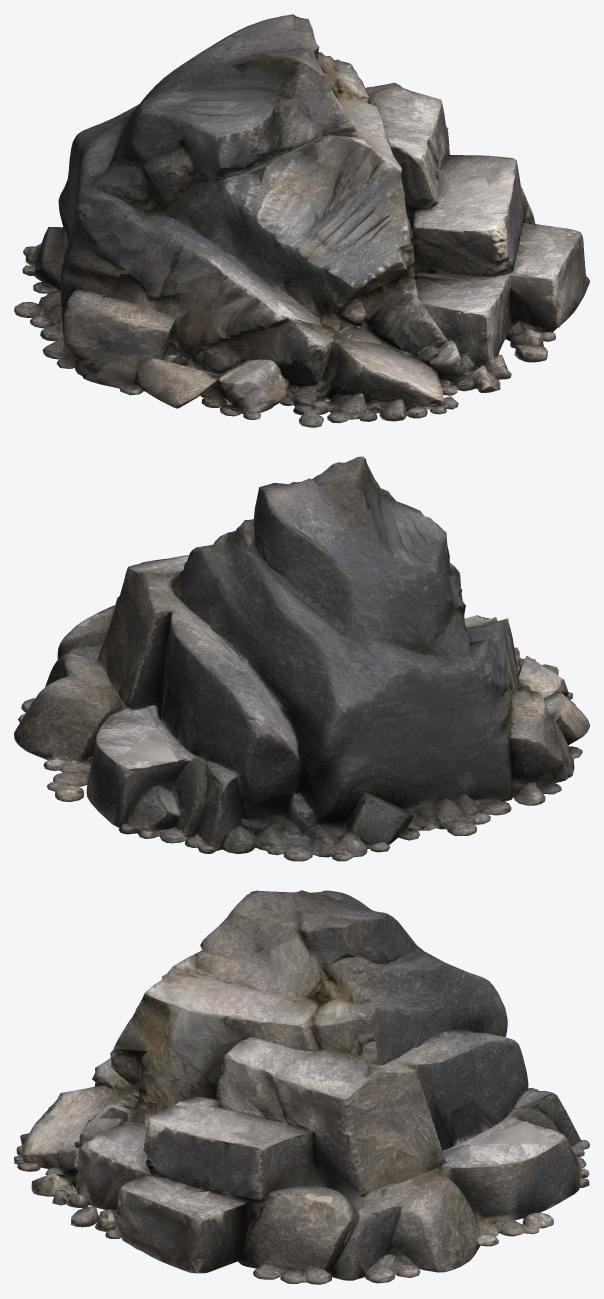
The picture shows the model from 3 angles, top to bottom: view 1: azimuth 30°, elevation 25°; view 2: azimuth 150°, elevation 25°; view 3: azimuth 270°, elevation 25°; orthographic projection. The views are drawn at different scales.
Parts seen in each view (by area): view 1: node_0; view 2: node_0; view 3: node_0.
Part boxes in pixels (left/top/right/bottom): node_0: left=14, top=14, right=589, bottom=427; node_0: left=14, top=456, right=589, bottom=861; node_0: left=14, top=890, right=589, bottom=1284.
Size of the model in its own units: 1.02 by 0.5289 by 1.06.
Materials: 1 (1 with a texture image).
